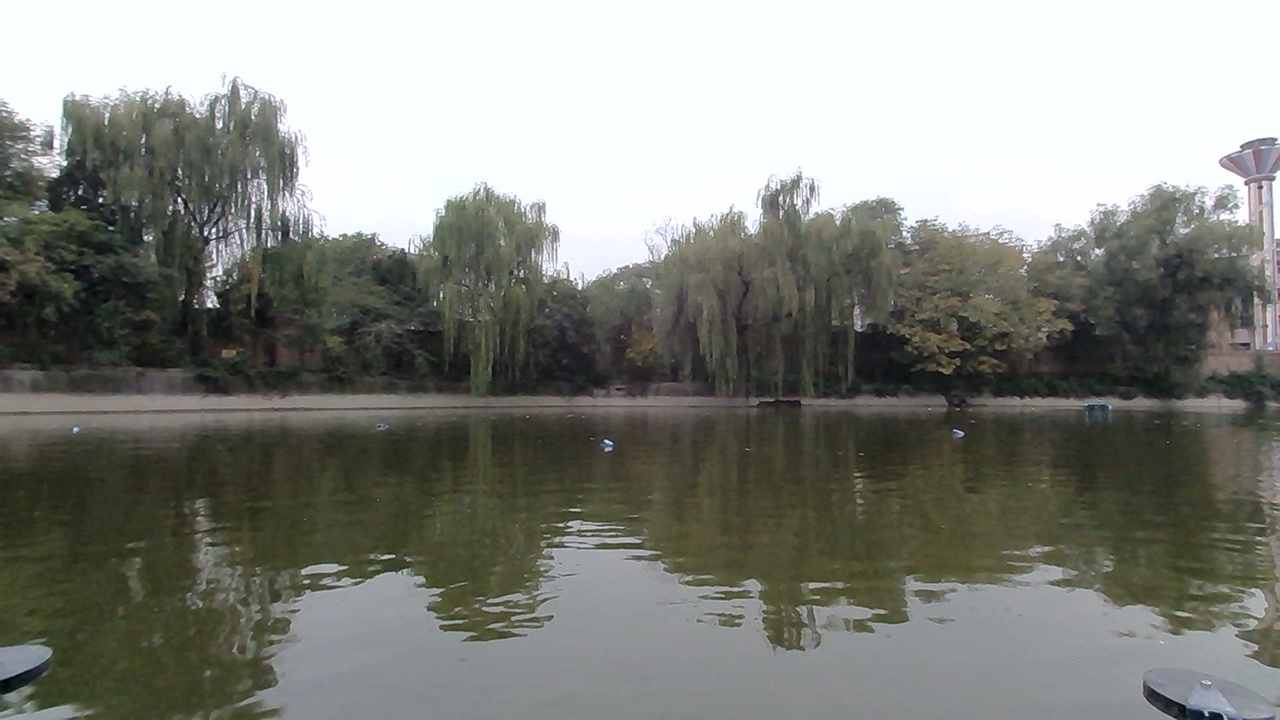bottle: (583, 429, 628, 456), (57, 412, 93, 444), (365, 412, 398, 435), (943, 420, 974, 444)
